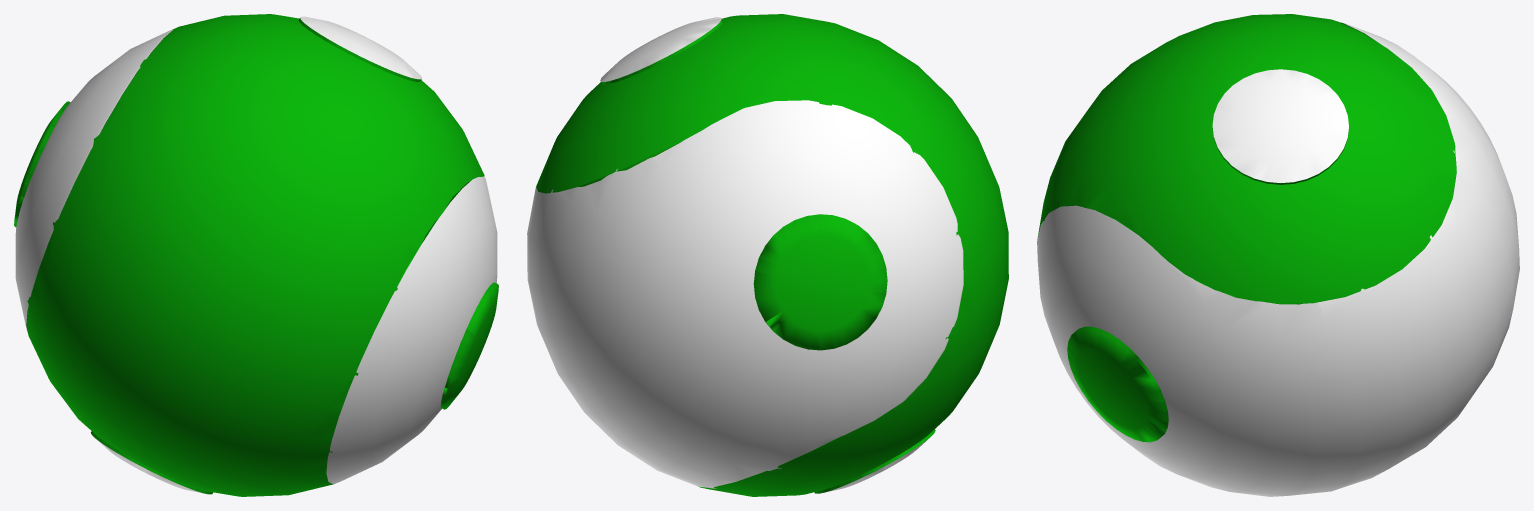
File: yinyang_jade_green.obj
The picture shows the model from 3 angles, left to right: view 1: azimuth 30°, elevation 25°; view 2: azimuth 150°, elevation 25°; view 3: azimuth 270°, elevation 25°; orthographic projection.
Visible parts, largest first — view 1: SphereDark, SphereLight, eyeDark, eyeLight; view 2: SphereLight, SphereDark, eyeDark, eyeLight; view 3: SphereLight, SphereDark, eyeLight, eyeDark.
Part boxes in pixels (x1,y1,x2,y2): SphereDark: [27, 14, 484, 496]; SphereLight: [15, 27, 497, 483]; eyeDark: [14, 101, 498, 409]; eyeLight: [91, 16, 421, 494]; SphereLight: [527, 100, 963, 488]; SphereDark: [536, 14, 1008, 496]; eyeDark: [753, 214, 887, 350]; eyeLight: [600, 17, 935, 493]; SphereLight: [1037, 22, 1519, 496]; SphereDark: [1037, 14, 1456, 304]; eyeLight: [1212, 69, 1348, 184]; eyeDark: [1067, 279, 1302, 442].
Bounding box in the file's own units: 2 × 2 × 2.
